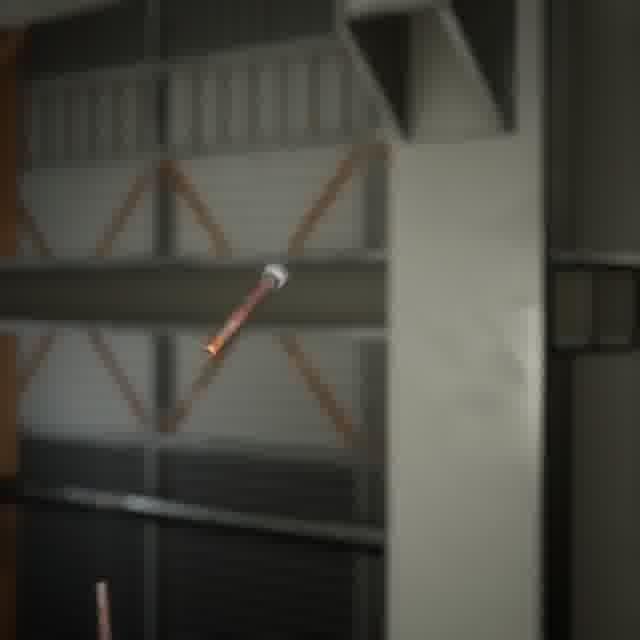bolt: (197, 258, 292, 363), (90, 577, 117, 640)
